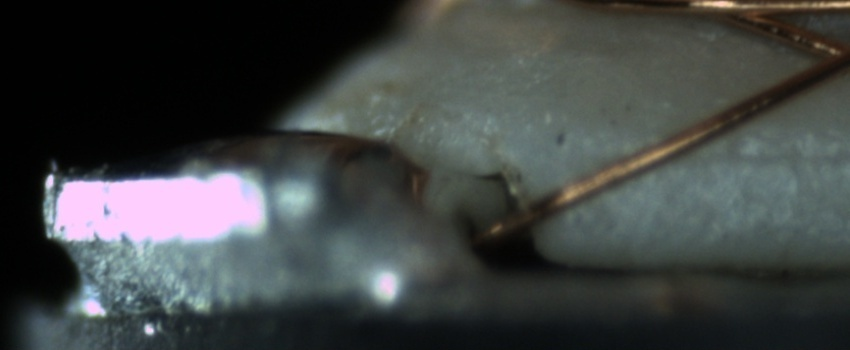CL: (795, 27, 849, 86)
DL: (676, 120, 847, 188)
